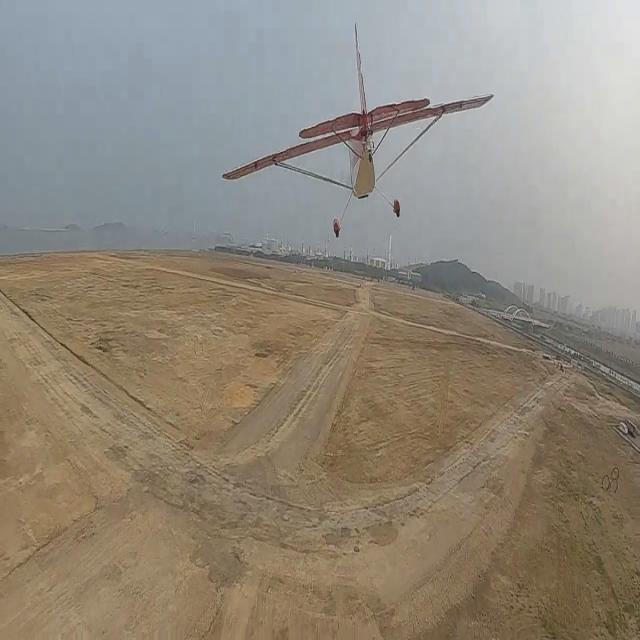iha: (228, 7, 486, 254)
